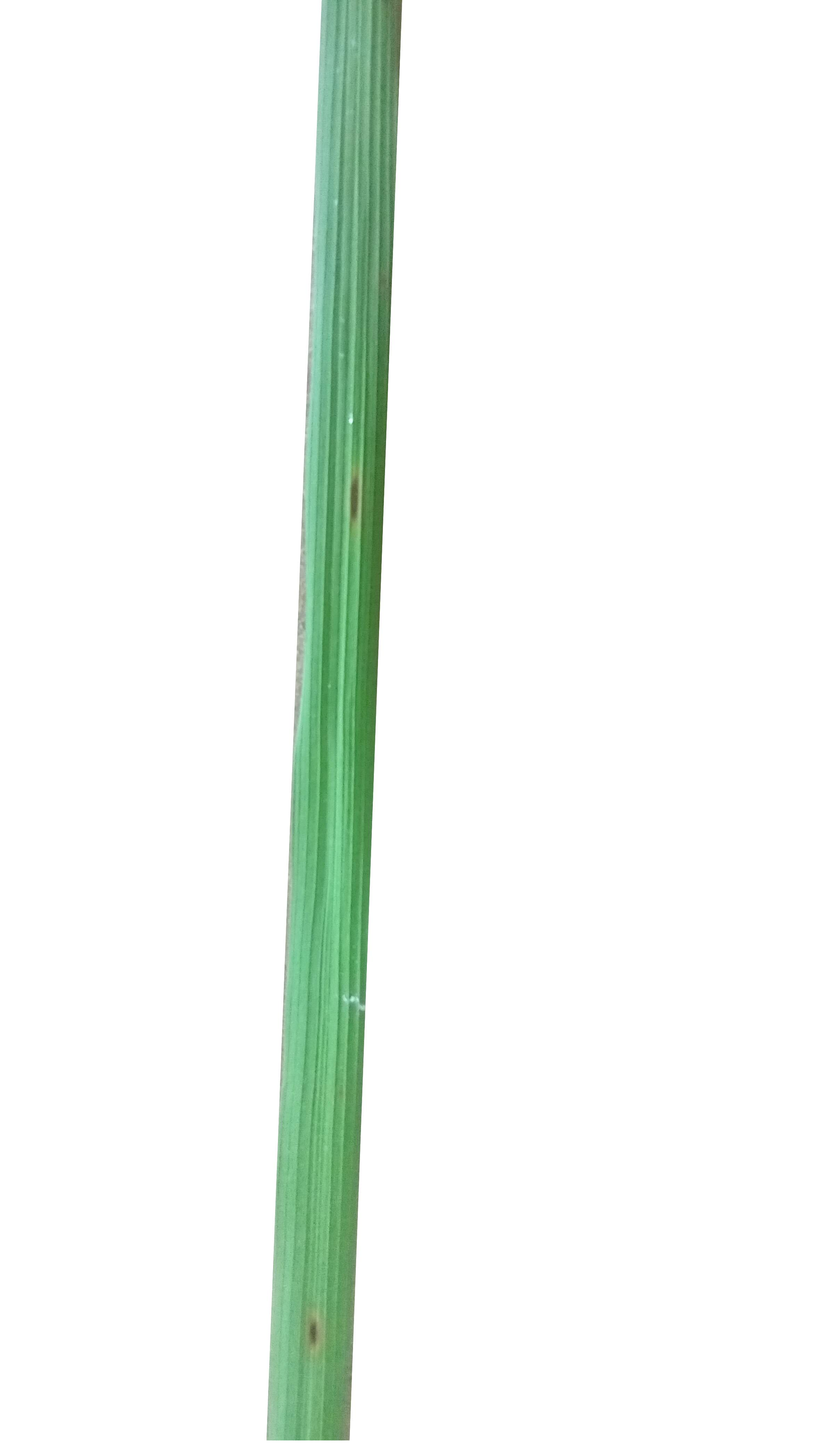Brown spot: (278, 1293, 347, 1356), (340, 462, 393, 528)
